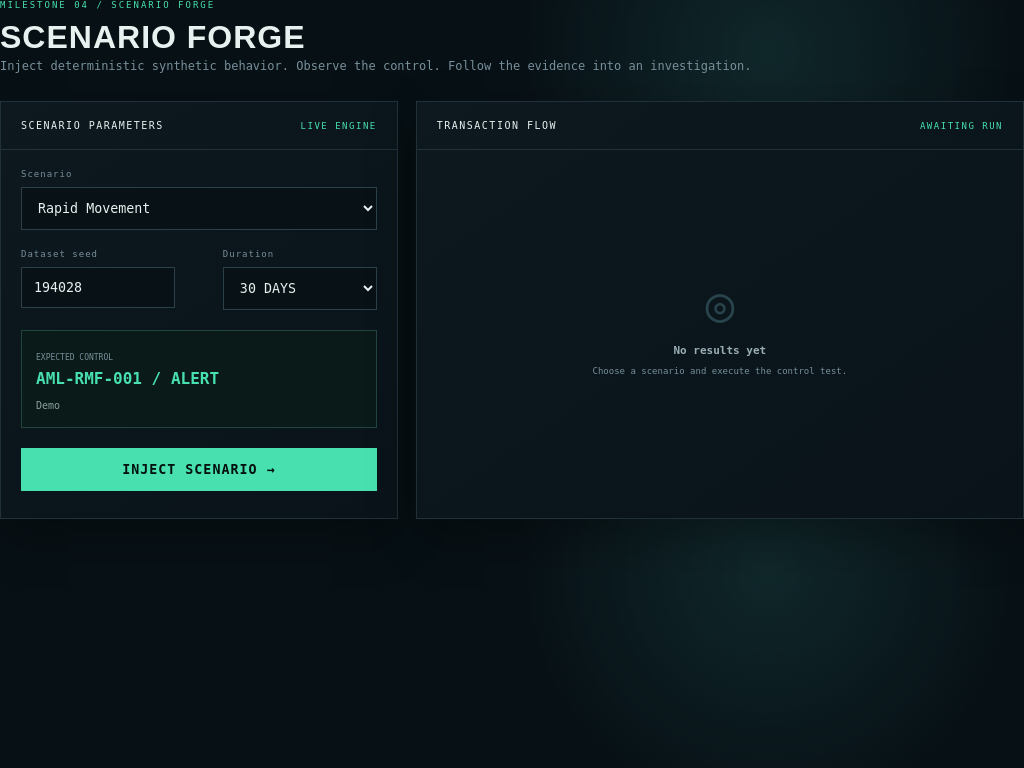
Test: runs Forge with duration and links the created case
The image size is (1024, 768).
Select "60 DAYS" in the dropdown labelled "Duration": (300, 288) [223,267,377,310]
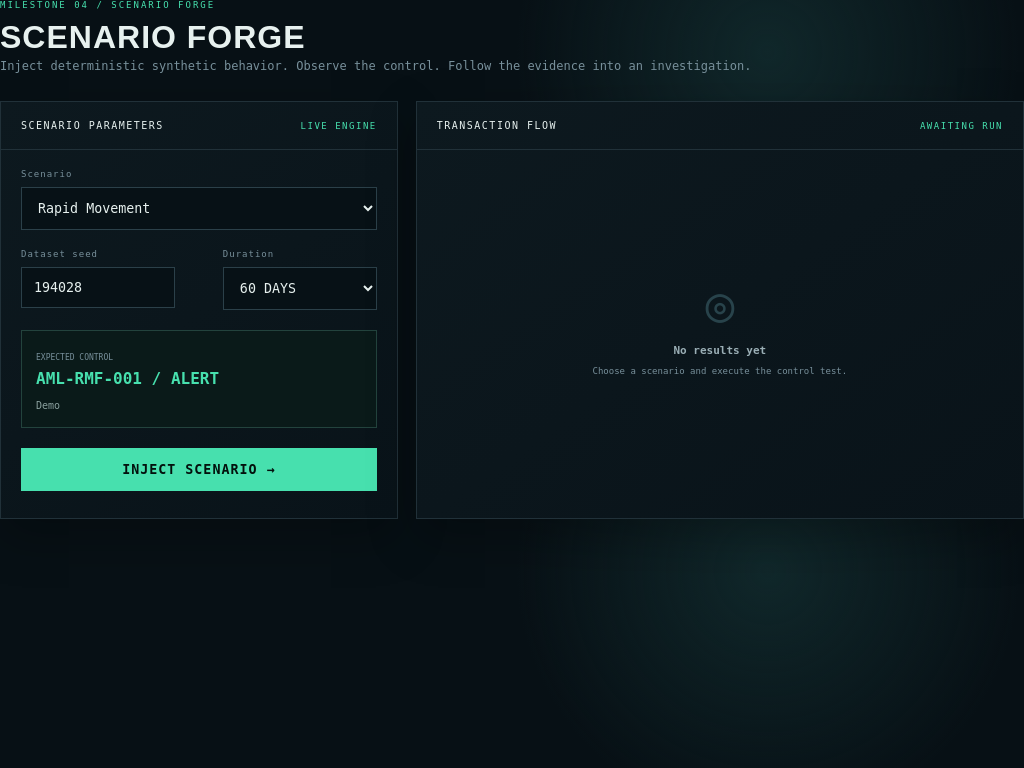
Click the button "INJECT SCENARIO →": (199, 470) [21,448,377,491]
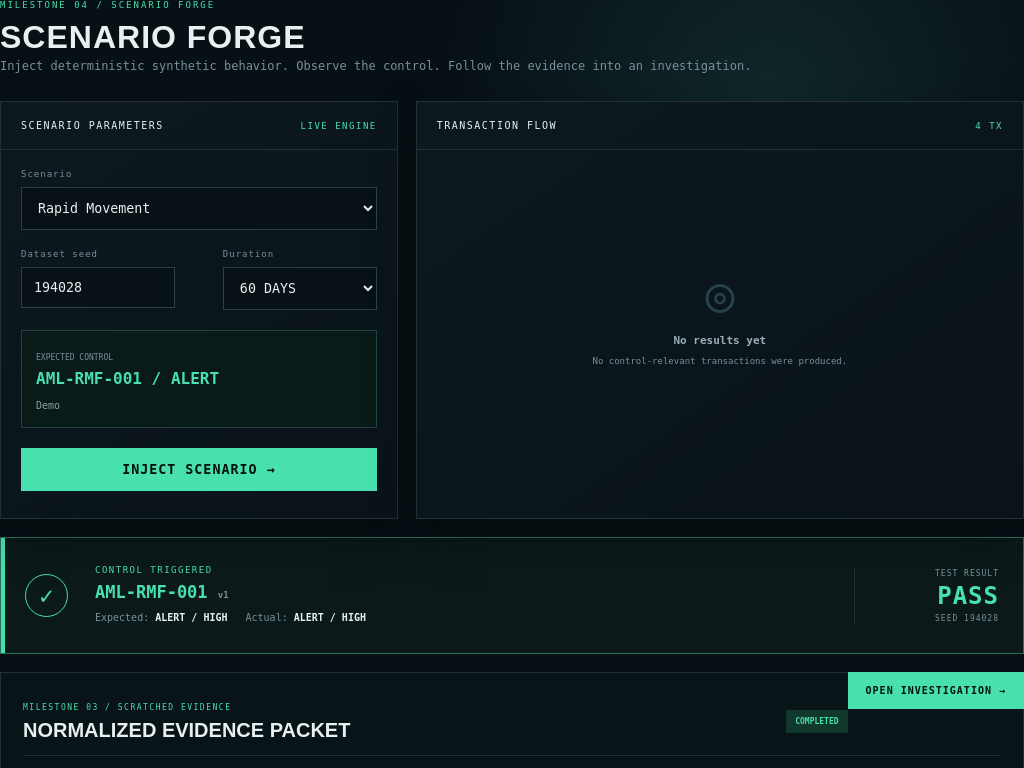
Result: the heading "Normalized Evidence Packet" is shown at [23,719,350,742]
